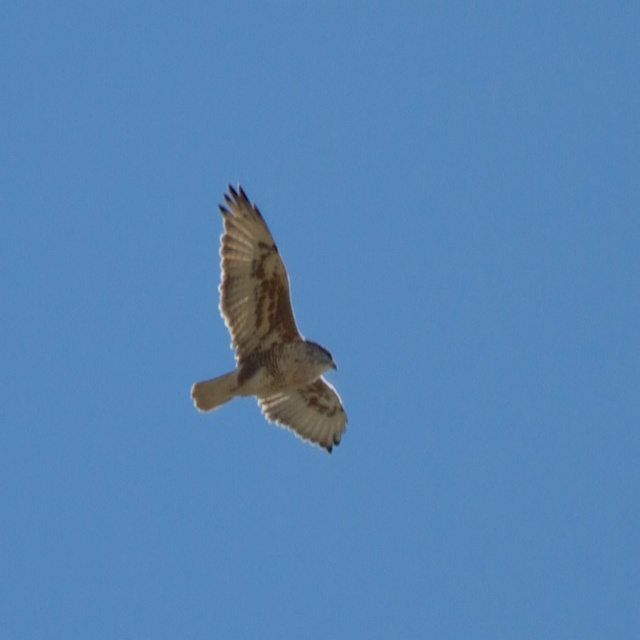Eagle: (190, 180, 351, 458)
